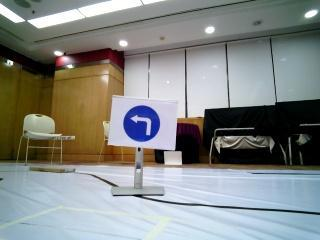left: (114, 96, 175, 154)
